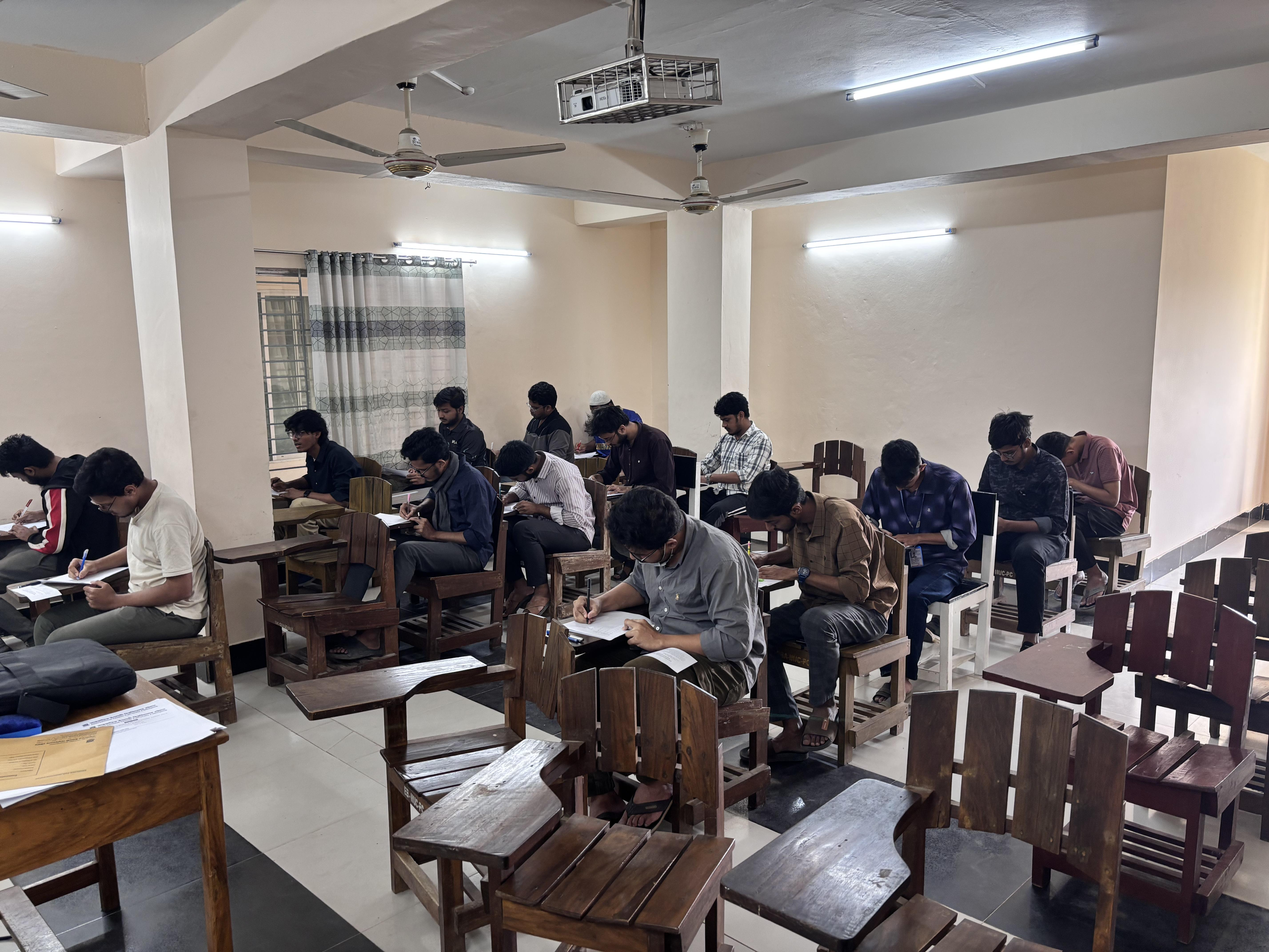no_cheating: (589, 485, 776, 775), (739, 467, 891, 746), (61, 446, 223, 680), (866, 436, 975, 668), (975, 398, 1067, 639), (4, 425, 123, 600), (384, 430, 492, 622), (1036, 407, 1130, 594), (491, 431, 580, 610), (689, 379, 777, 516), (582, 399, 675, 512), (404, 384, 499, 479), (507, 370, 584, 480)
suspicious_moving: (271, 408, 369, 533)
